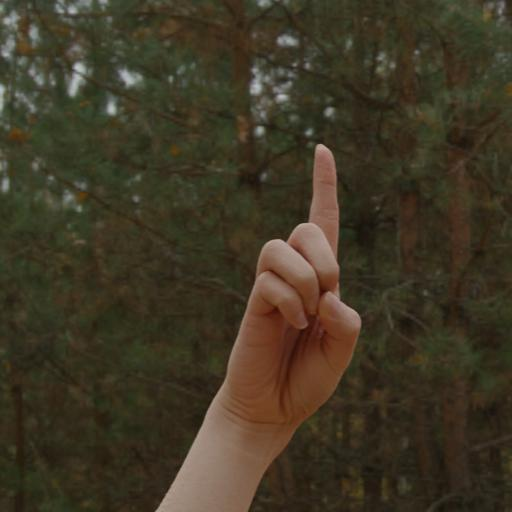D: (216, 135, 368, 448)
